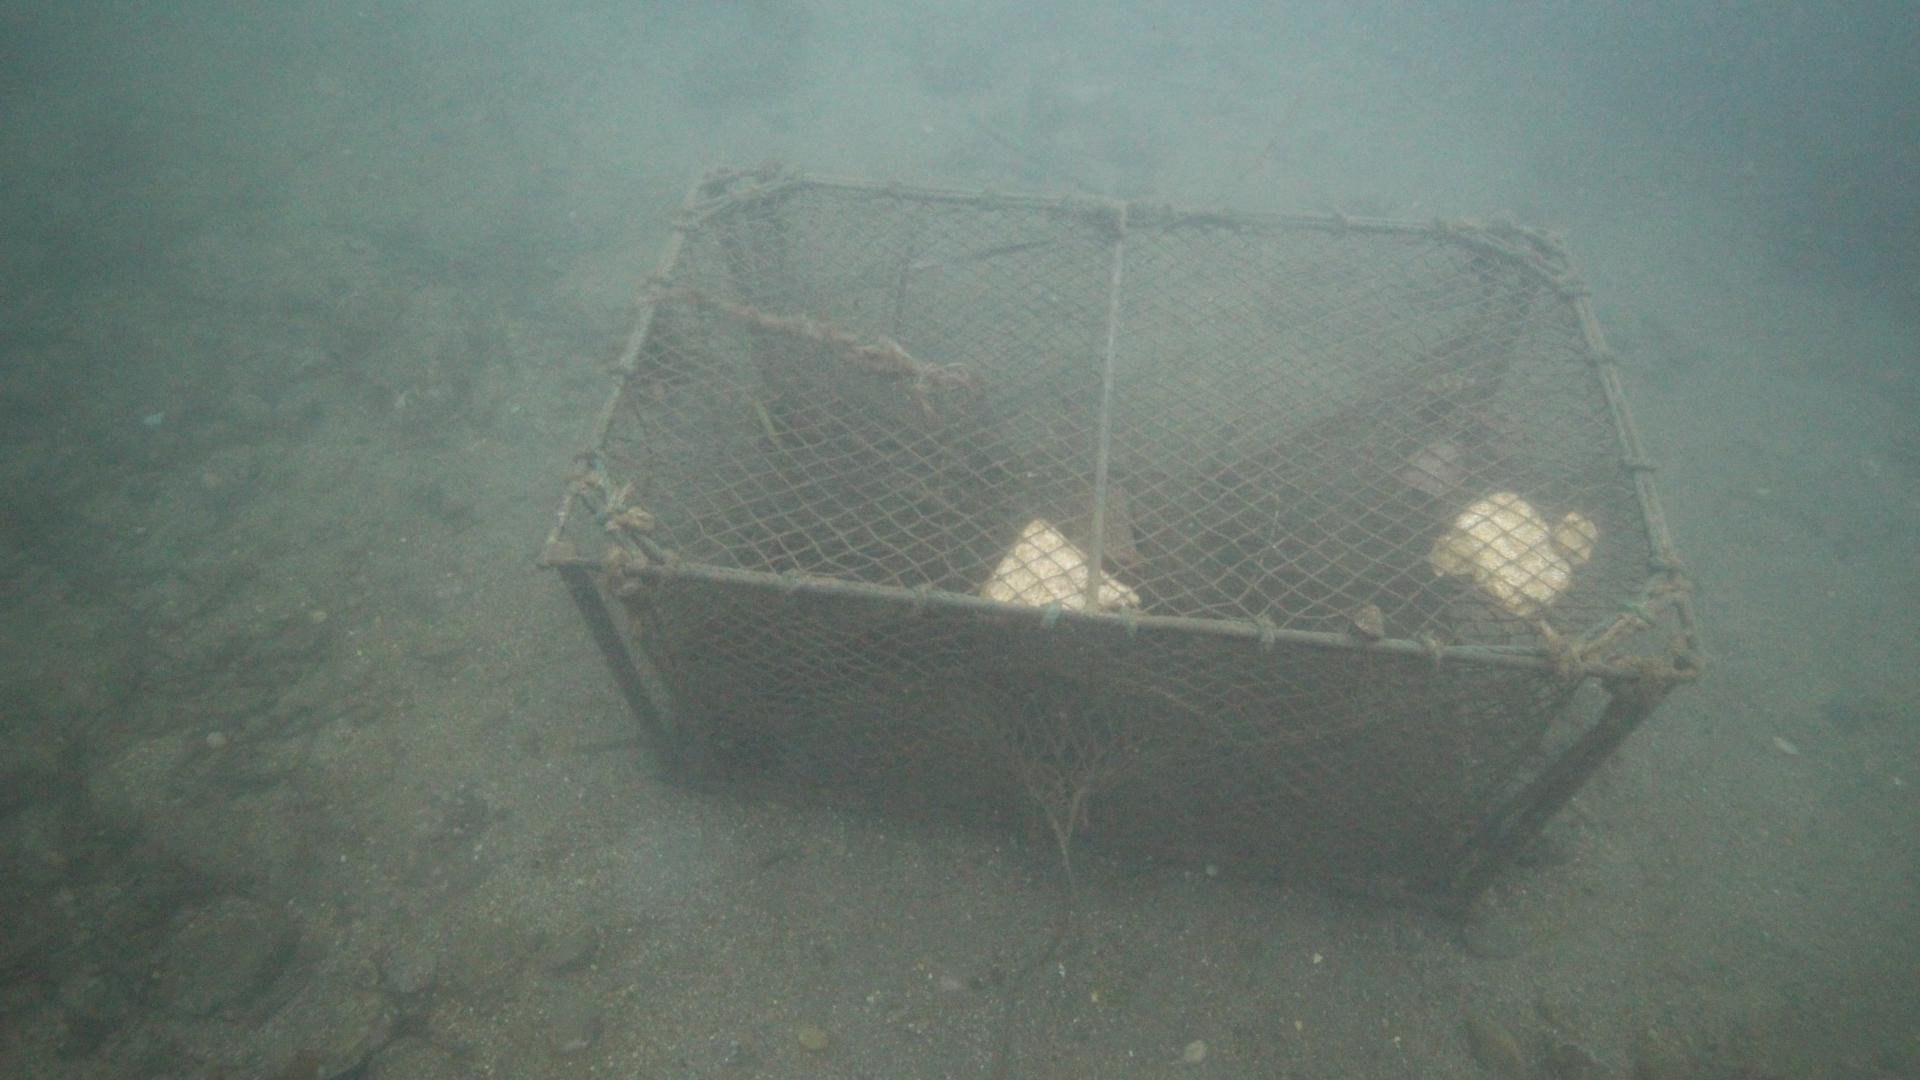rectangular fish trap: (530, 157, 1710, 924)
